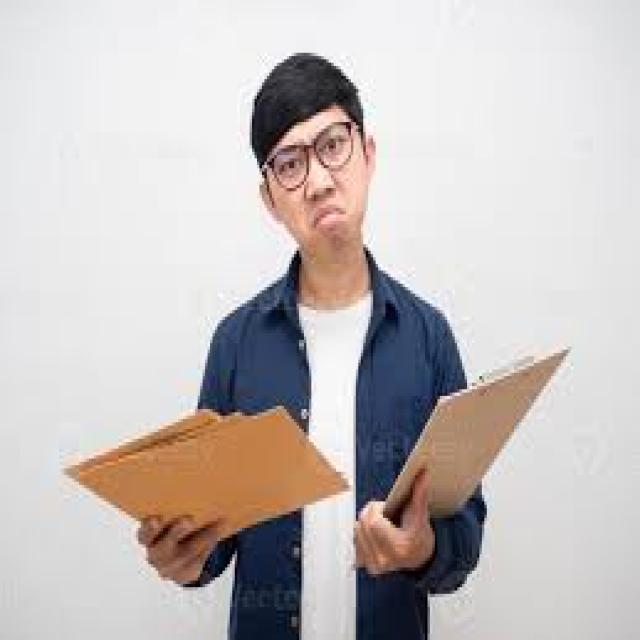Angry: (238, 46, 405, 282)
